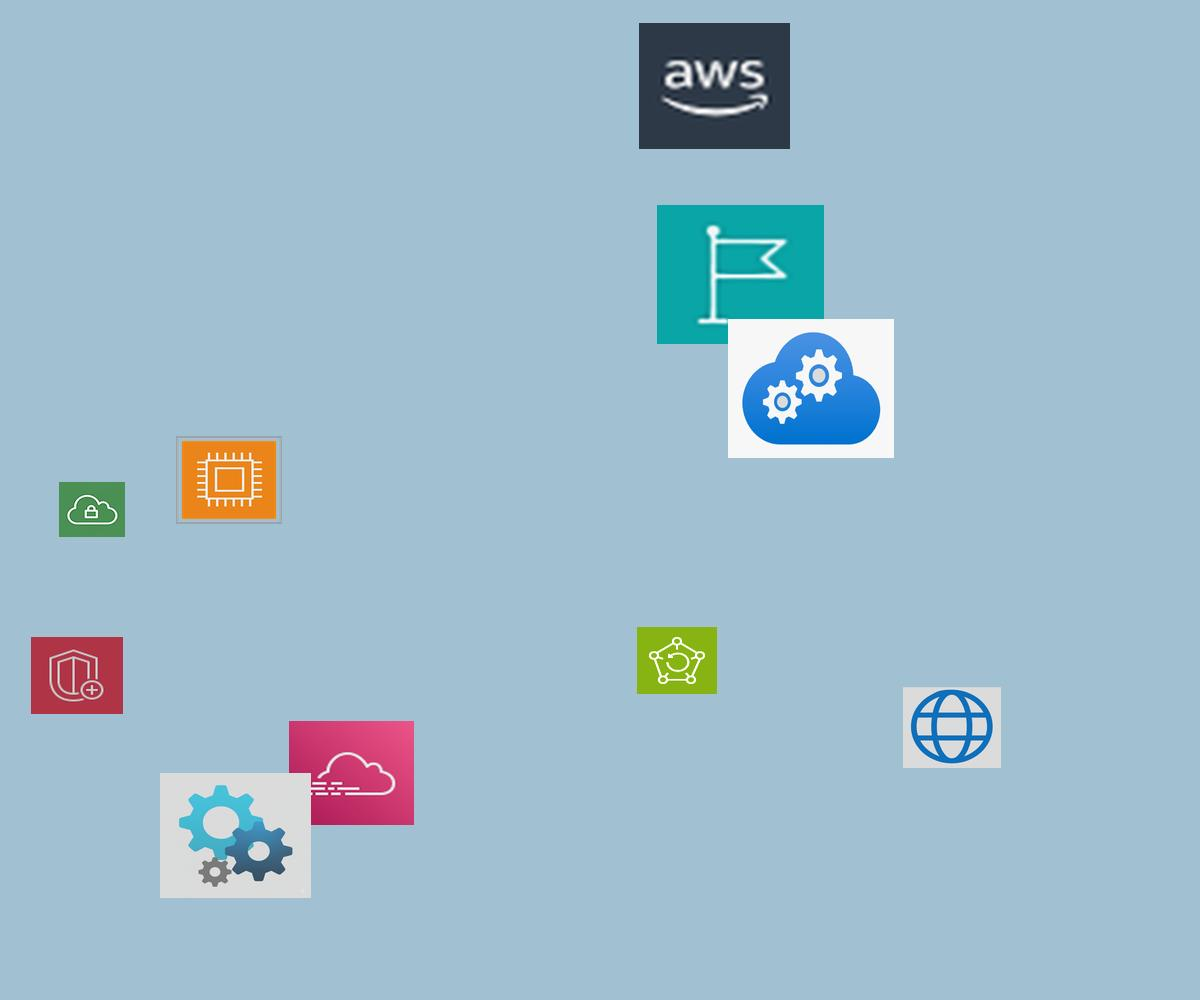AWS-Backup: (637, 627, 717, 694)
AWS-Category_Compute: (176, 436, 282, 524)
AWS-Cloud-logo: (639, 23, 790, 149)
AWS-CloudTrail: (289, 721, 414, 825)
AWS-Private_vpc: (59, 482, 125, 537)
AWS-Region: (657, 205, 824, 344)
AWS-Shield: (31, 637, 123, 714)
Azure_api: (160, 773, 311, 898)
Azure_cloud_services: (728, 319, 894, 458)
Azure_http: (903, 687, 1001, 768)
